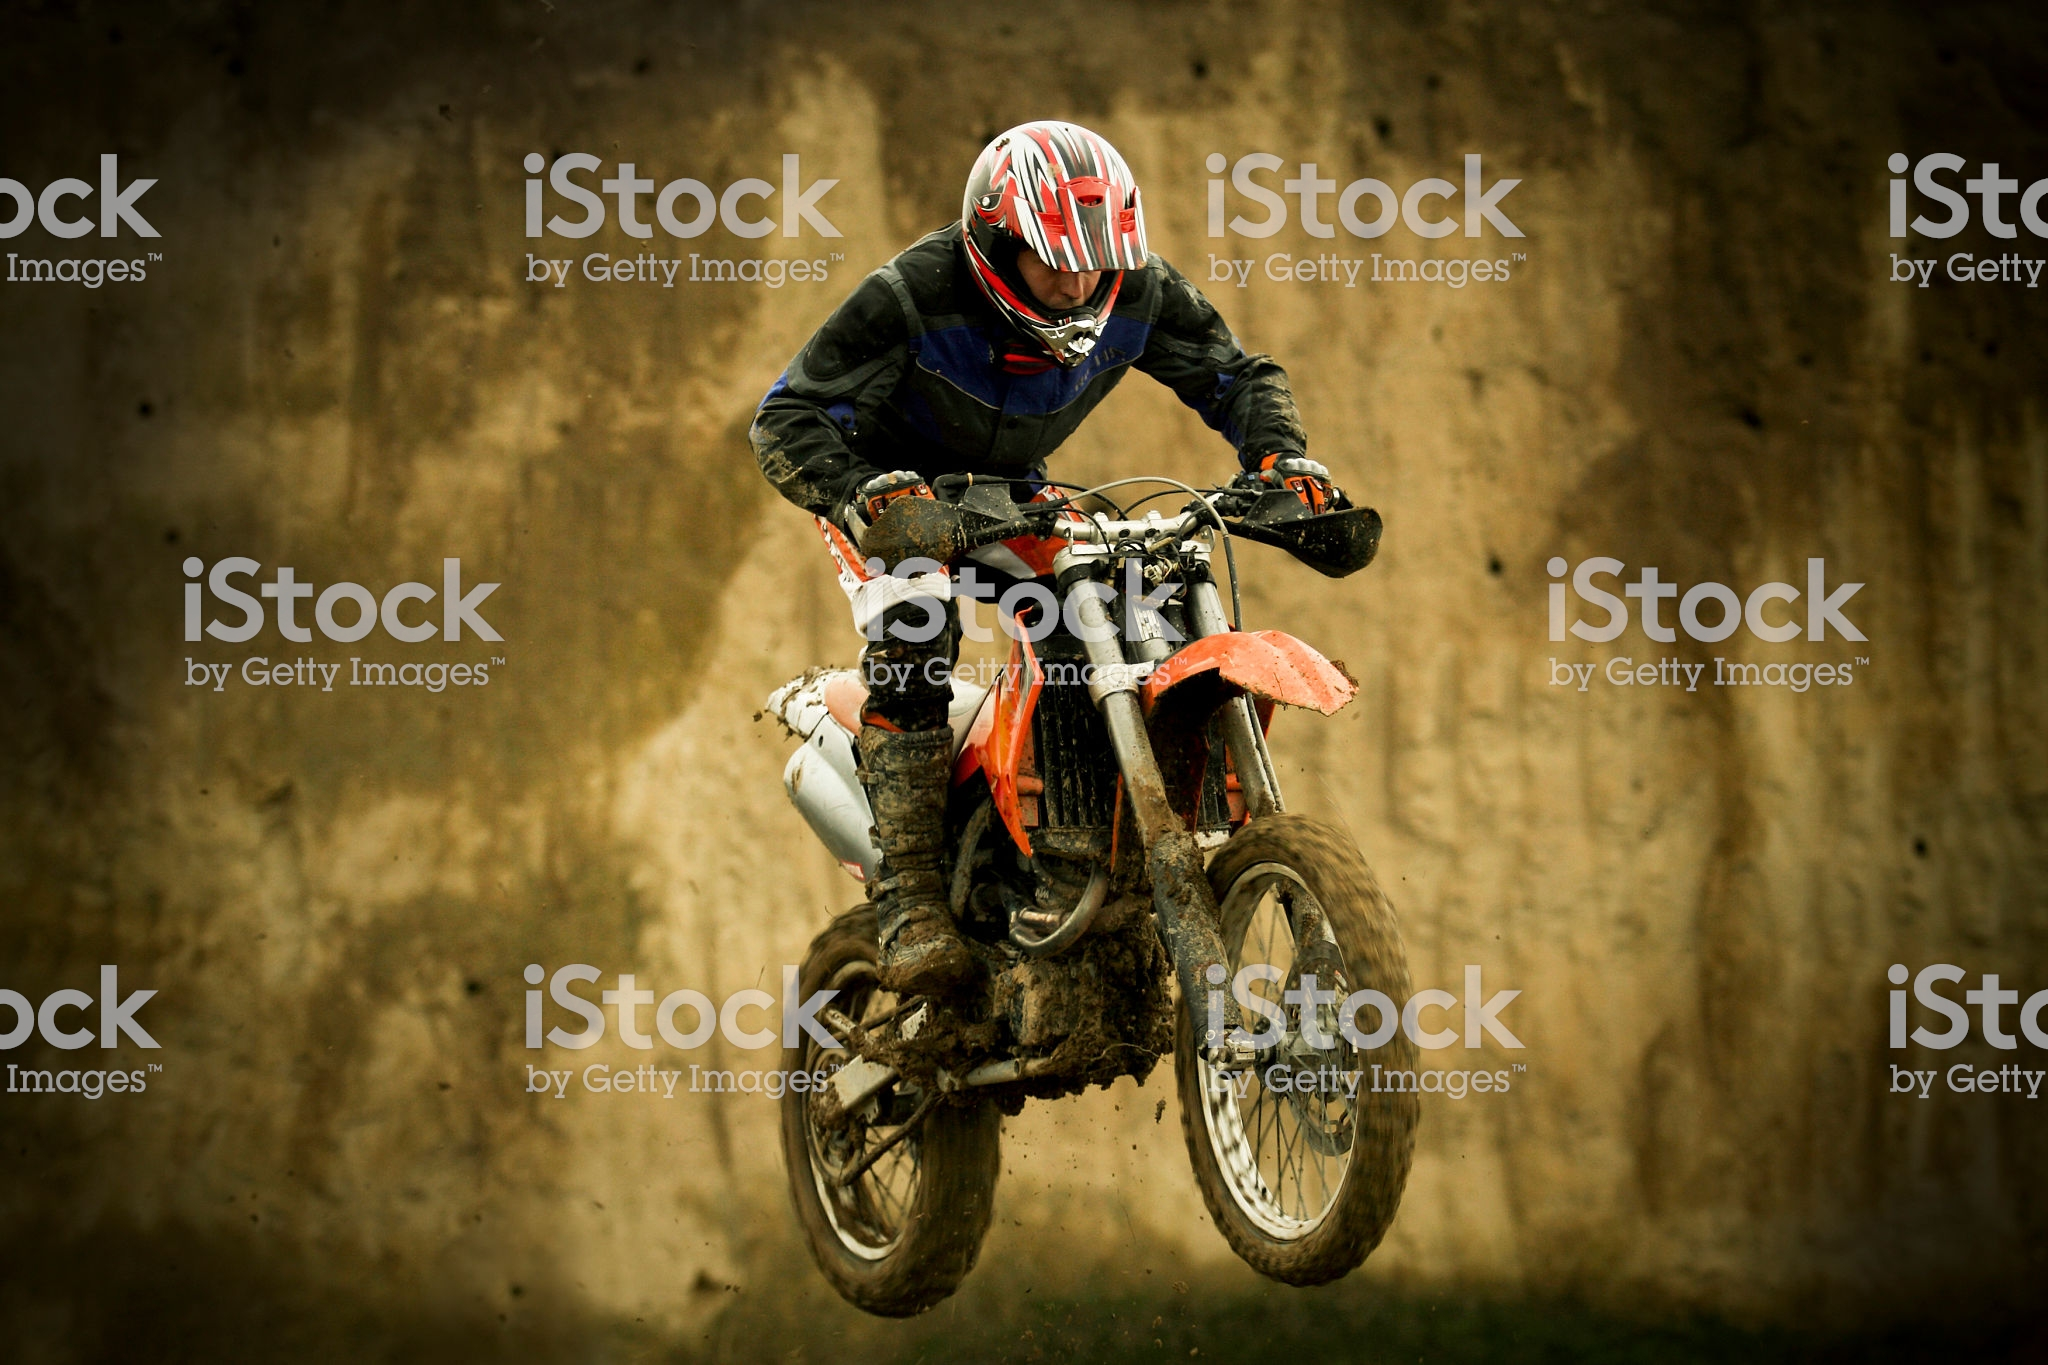helmet: (971, 126, 1153, 358)
